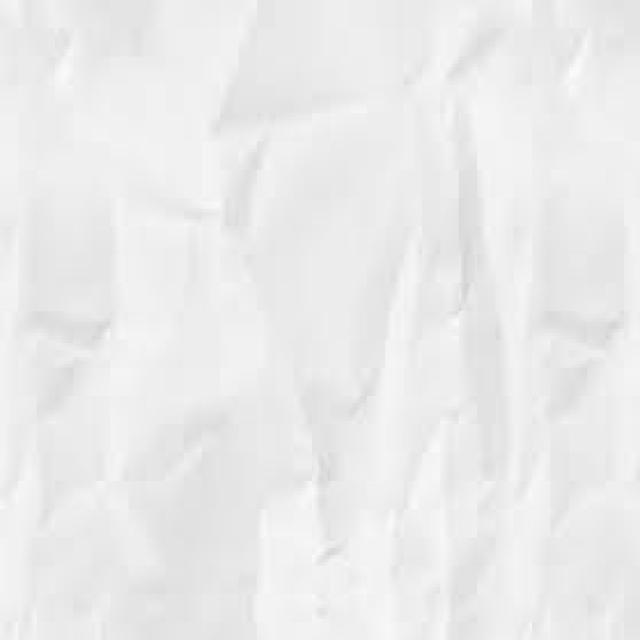paper: (0, 0, 637, 636)
